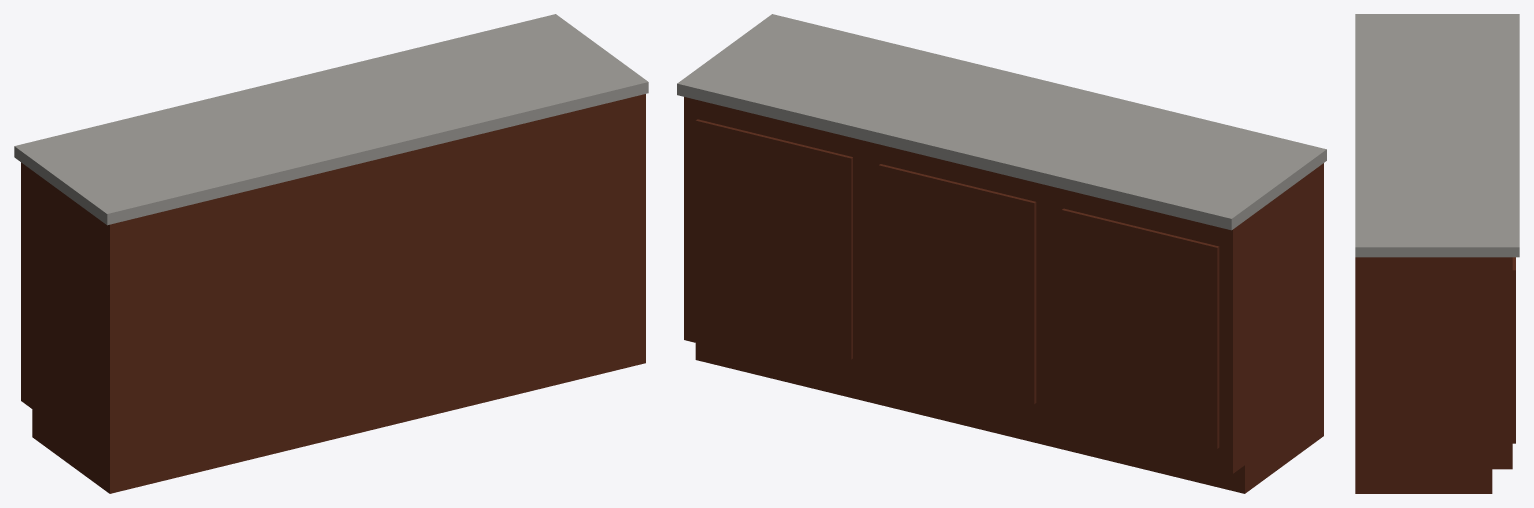
Rendered from parametric-counter-1st.glb.
The picture shows the model from 3 angles, left to right: view 1: azimuth 30°, elevation 25°; view 2: azimuth 150°, elevation 25°; view 3: azimuth 270°, elevation 25°; orthographic projection. The views are drawn at different scales.
Visible parts, largest first — view 1: parametric-counter-1st; view 2: parametric-counter-1st; view 3: parametric-counter-1st.
Boxes of the visible parts, x1,y1,x2,y2 form: parametric-counter-1st: (14, 14, 648, 493); parametric-counter-1st: (677, 14, 1326, 493); parametric-counter-1st: (1355, 14, 1519, 493).
Size of the model in its own units: 2.02 by 1 by 0.6.
